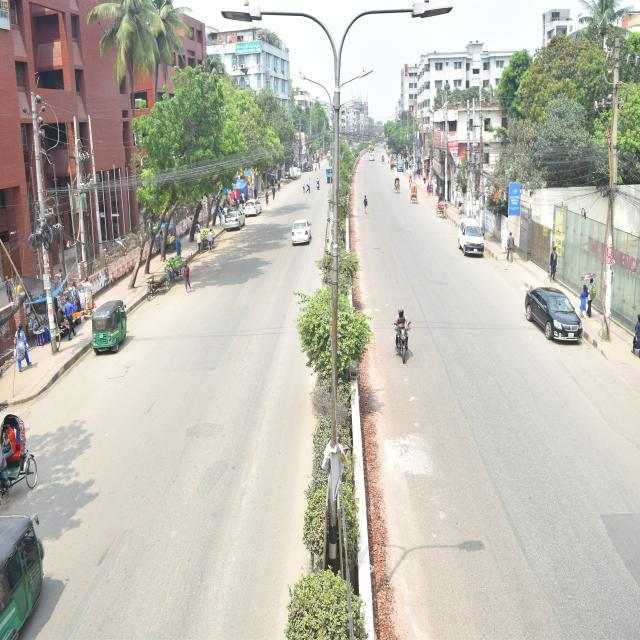car: (523, 282, 585, 358), (290, 216, 312, 253), (226, 209, 244, 234), (245, 198, 262, 221)
microbus: (457, 216, 486, 262)
motorbike: (391, 312, 414, 372)
